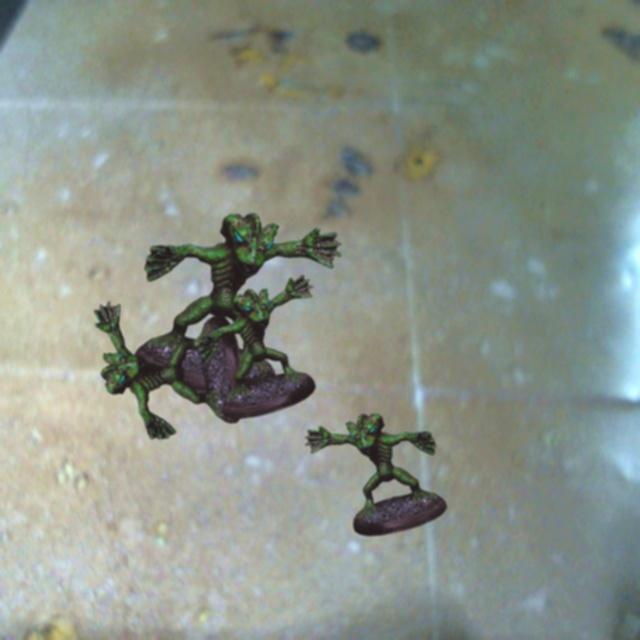pieza_juego: (133, 213, 341, 397), (94, 301, 244, 439), (305, 413, 446, 535), (198, 275, 315, 418)
